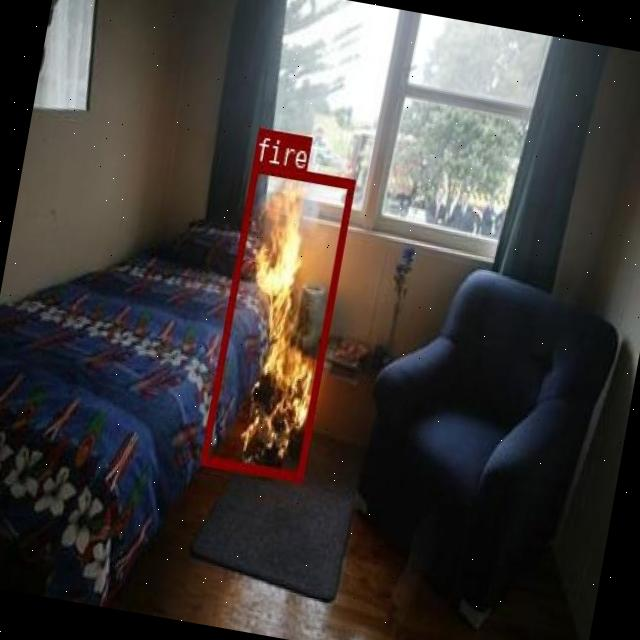fire: (200, 160, 354, 479)
